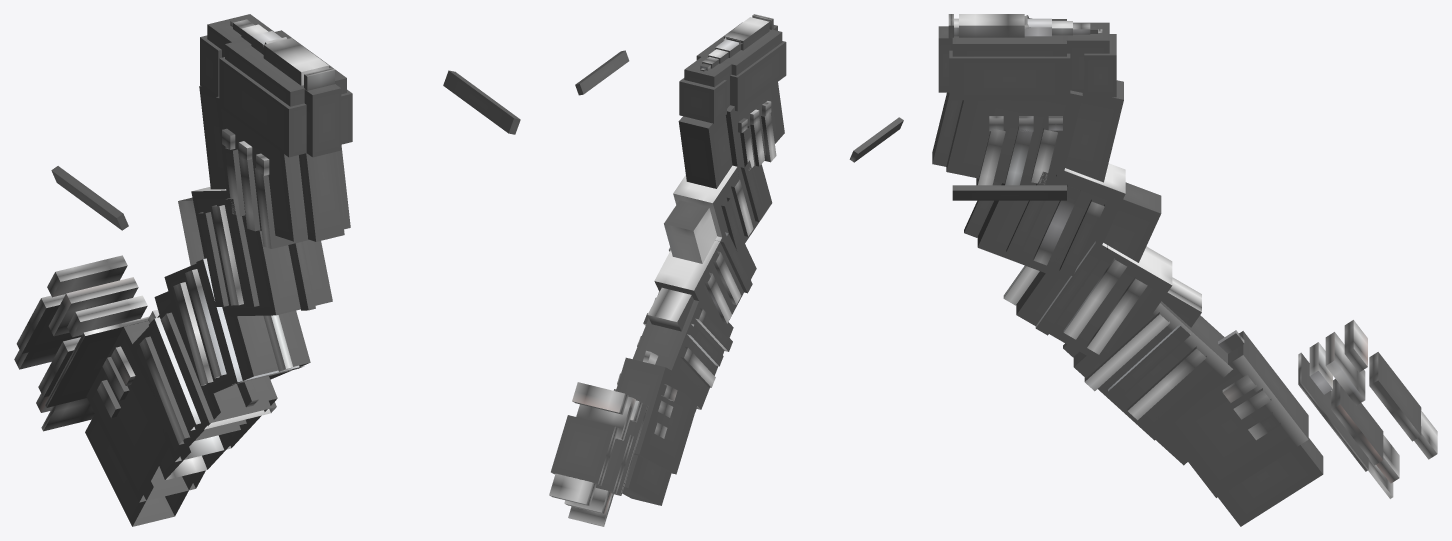
File: ak47_mag_v6.glb
The picture shows the model from 3 angles, left to right: view 1: azimuth 30°, elevation 25°; view 2: azimuth 150°, elevation 25°; view 3: azimuth 270°, elevation 25°; orthographic projection. The views are drawn at different scales.
Visible parts, largest first — view 1: mag; view 2: mag; view 3: mag.
Boxes of the visible parts, bbox=[...] form: mag: bbox=[14, 14, 520, 526]; mag: bbox=[549, 14, 903, 526]; mag: bbox=[932, 14, 1437, 526].
Size of the model in its own units: 0.1645 by 0.2224 by 0.2043.
Materials: 1 (1 with a texture image).
